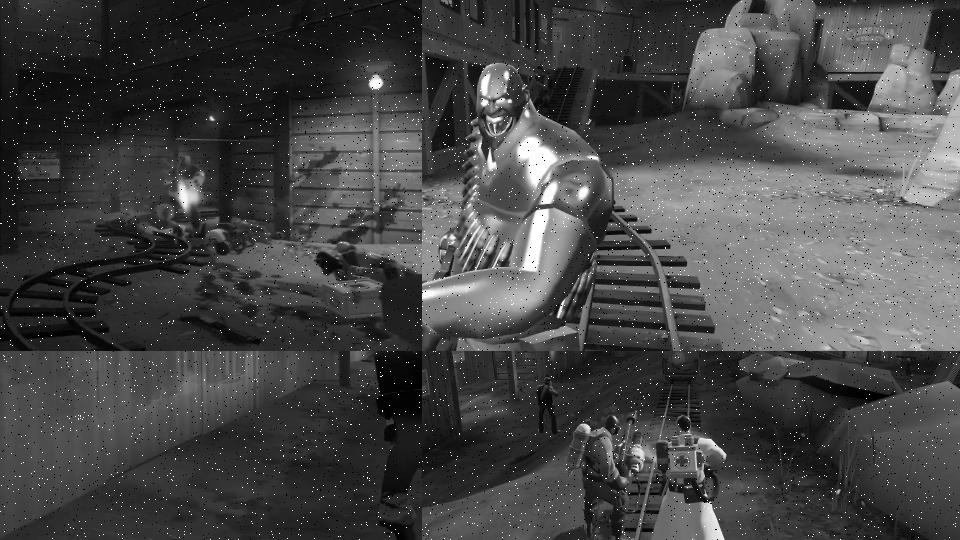Enemy: (422, 60, 615, 351), (644, 414, 735, 540), (563, 406, 647, 540), (374, 351, 422, 540), (315, 241, 419, 285), (155, 155, 206, 229), (119, 212, 208, 239), (533, 375, 564, 438), (534, 66, 552, 110)
